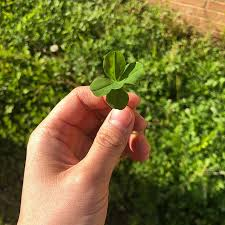4-clover: (90, 51, 147, 110)
